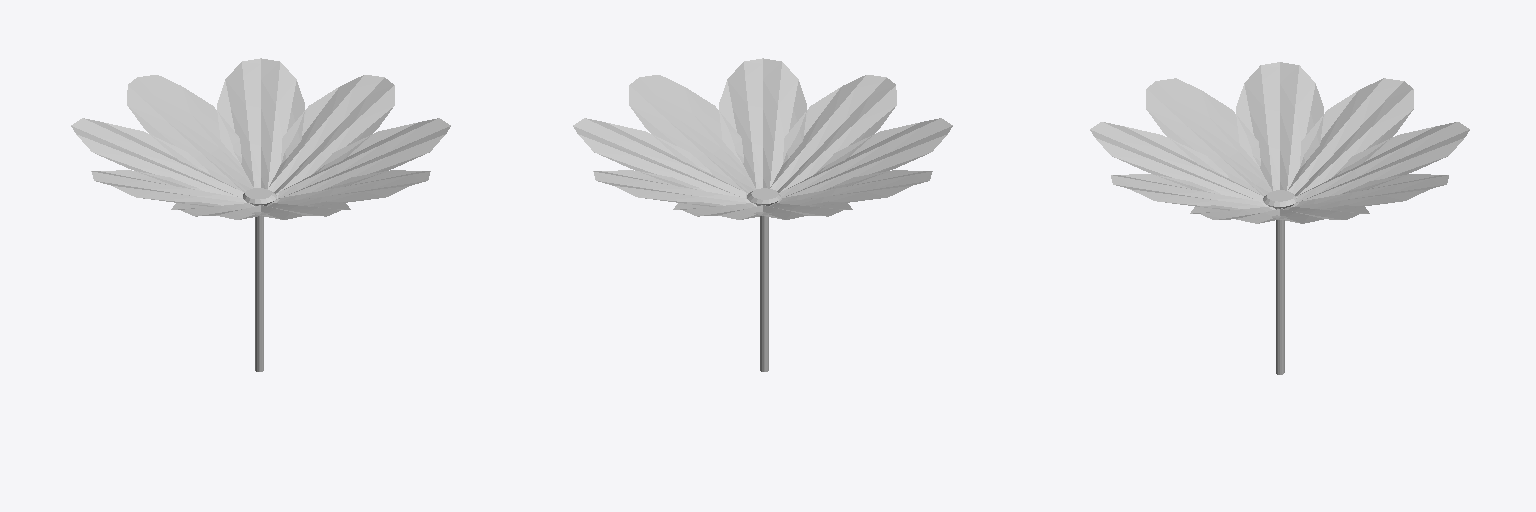
Rendered from Blume.obj.
The picture shows the model from 3 angles: view 1: azimuth 30°, elevation 25°; view 2: azimuth 150°, elevation 25°; view 3: azimuth 270°, elevation 25°; orthographic projection.
Visible parts, largest first — view 1: Circle, Circle.001; view 2: Circle, Circle.001; view 3: Circle, Circle.001.
Part boxes in pixels (left/top/right/bottom): Circle: left=71, top=58, right=450, bottom=219; Circle.001: left=243, top=188, right=276, bottom=371; Circle: left=573, top=58, right=952, bottom=219; Circle.001: left=747, top=188, right=780, bottom=371; Circle: left=1090, top=62, right=1469, bottom=223; Circle.001: left=1263, top=190, right=1296, bottom=374.
Size of the model in its own units: 7.41 by 5.04 by 7.53.